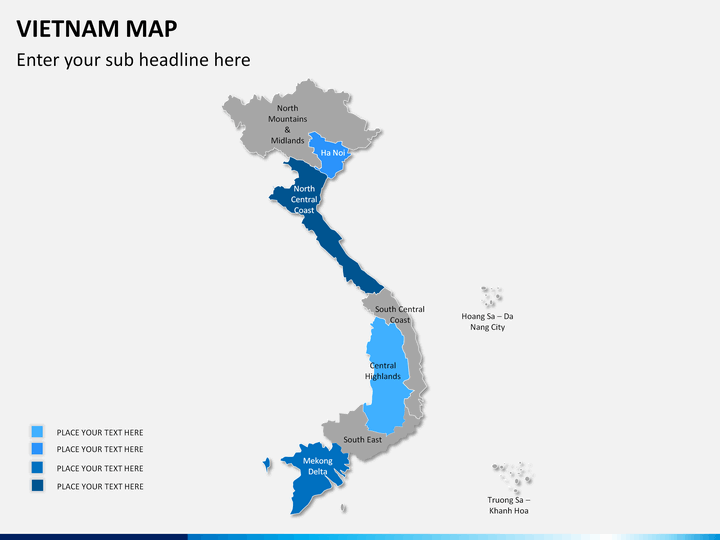Island: (483, 459, 543, 518), (461, 281, 519, 341)
